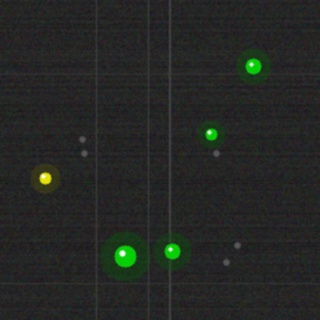green_normal: (112, 243, 138, 269), (162, 241, 182, 261), (243, 56, 263, 76), (203, 126, 219, 142)
yellow_warning: (37, 170, 53, 186)
